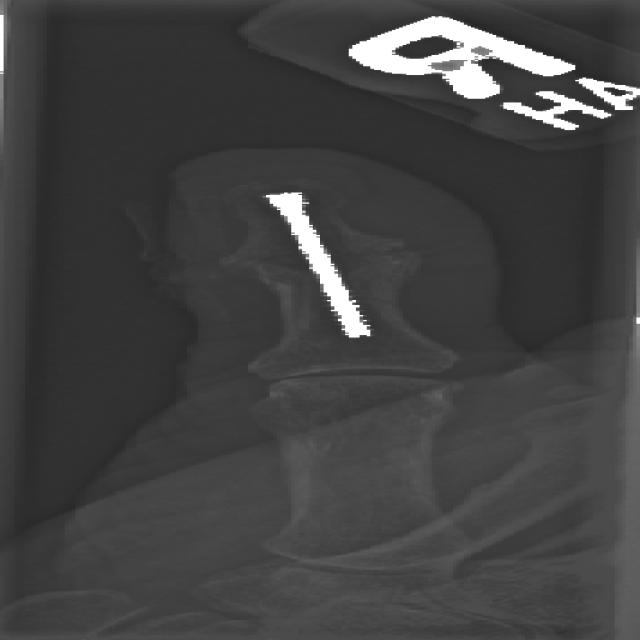fingers positive: (199, 240, 451, 295)
